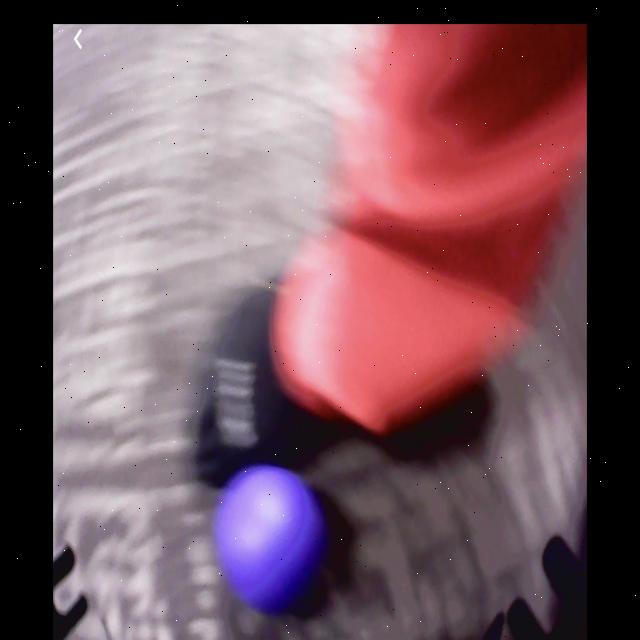ball: (223, 464, 319, 602)
